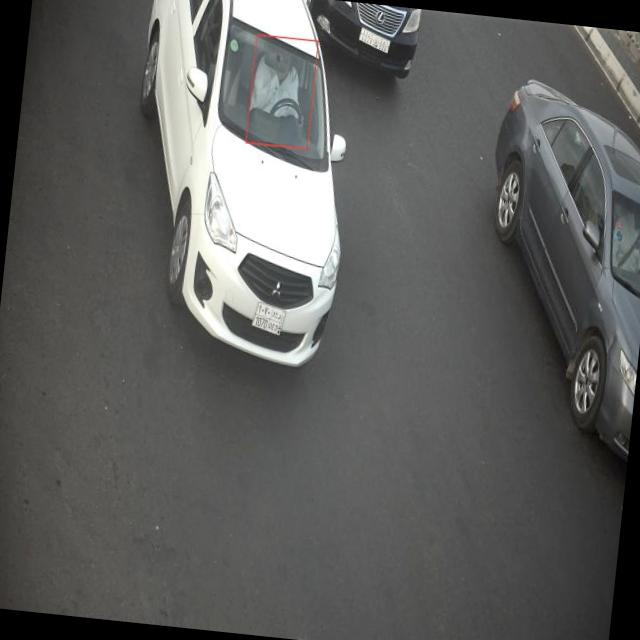person_with_seatbelt: (613, 200, 640, 285)
person_without_seatbelt: (246, 36, 322, 150)
